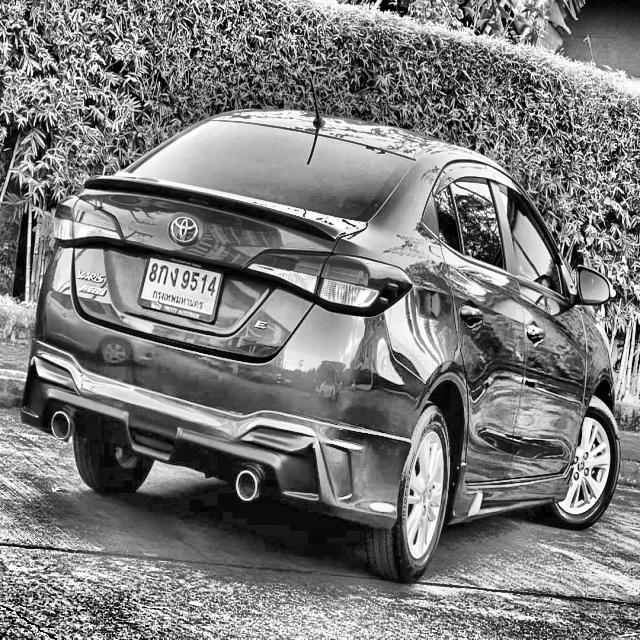license-plate: (138, 250, 226, 330)
